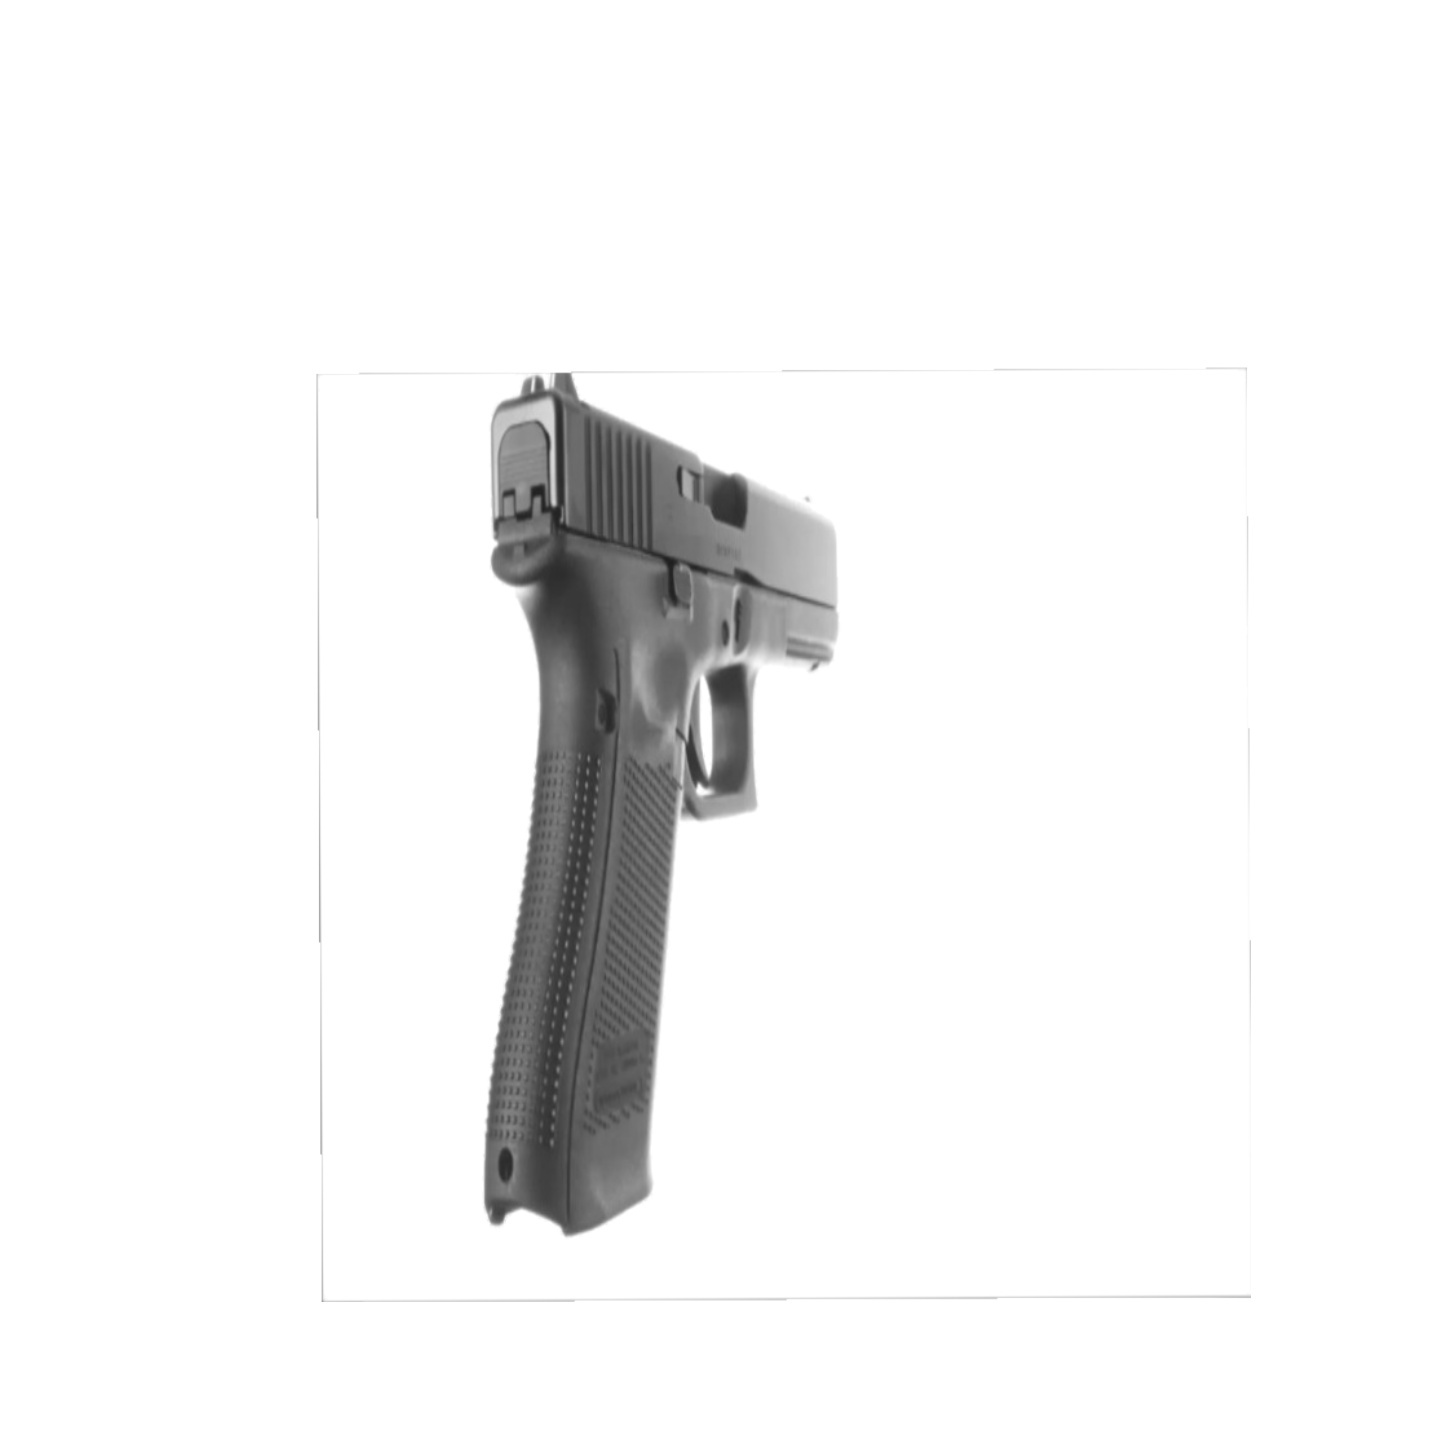gun: (432, 353, 853, 1258)
